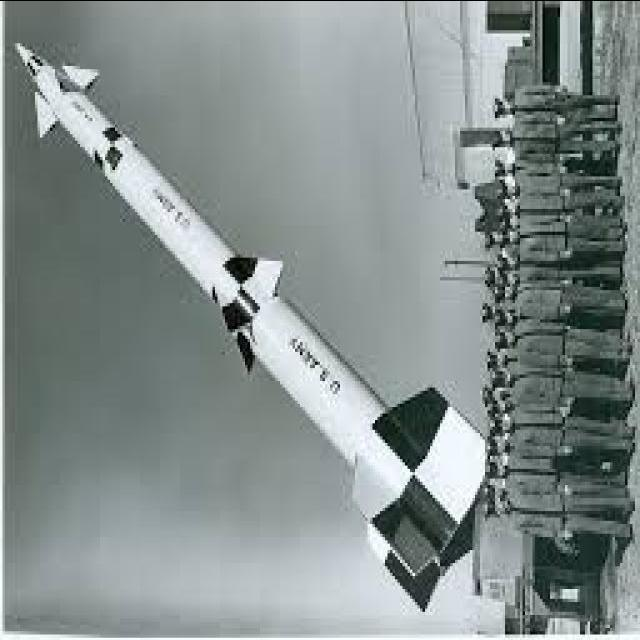missile: (15, 9, 488, 609)
